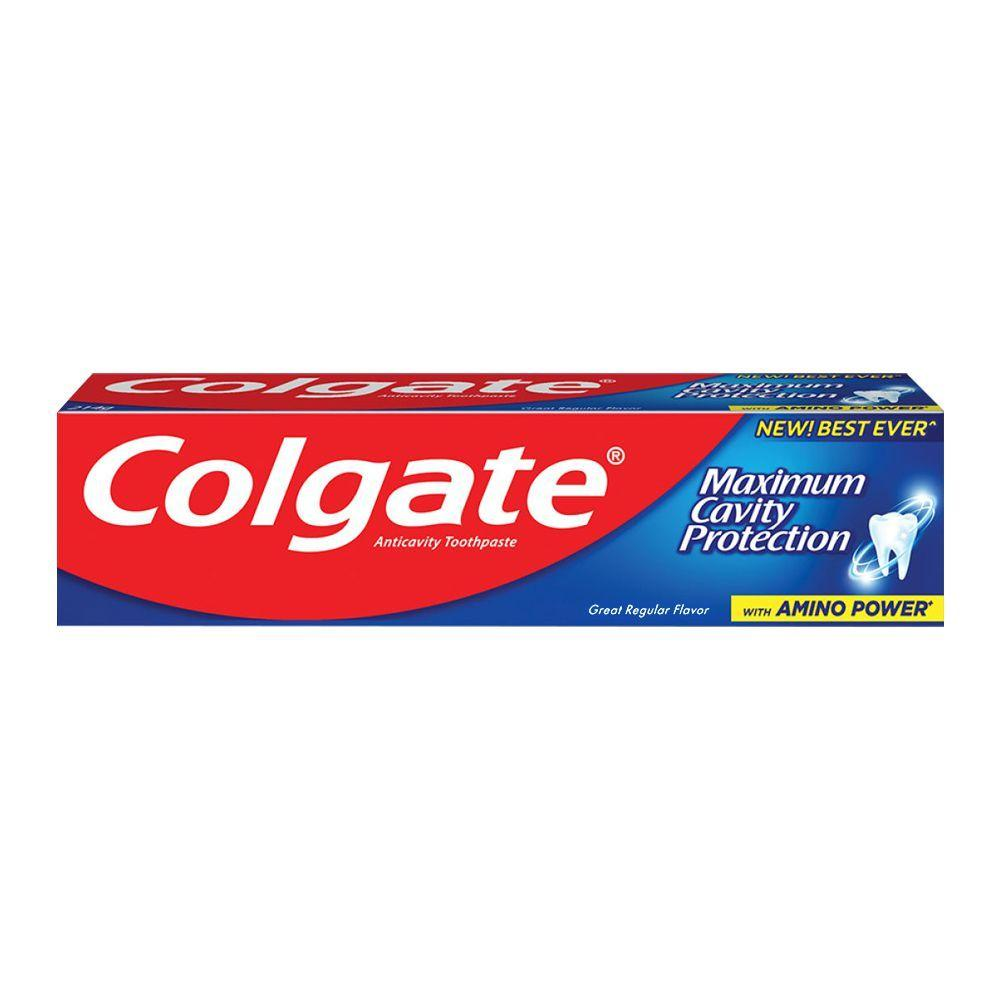Colgate: (55, 371, 945, 626)
